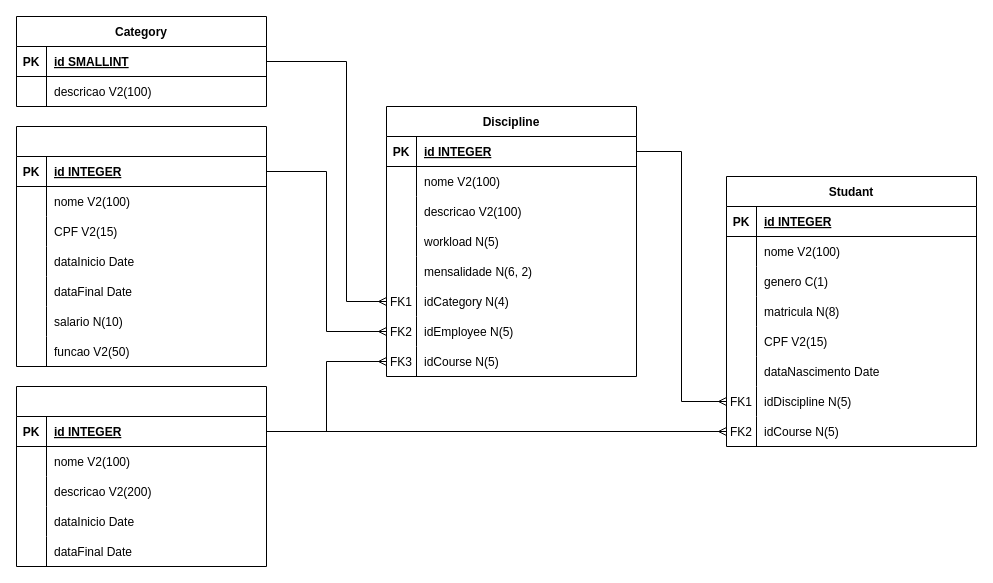
The diagram is 993 pixels wide and 583 high, and some of its shapes have lost their labels. The box of each missing label's shape, as (x1, y1, x2, y2) in pixels:
Course: (16, 386, 266, 566)
Employee: (16, 126, 266, 366)
